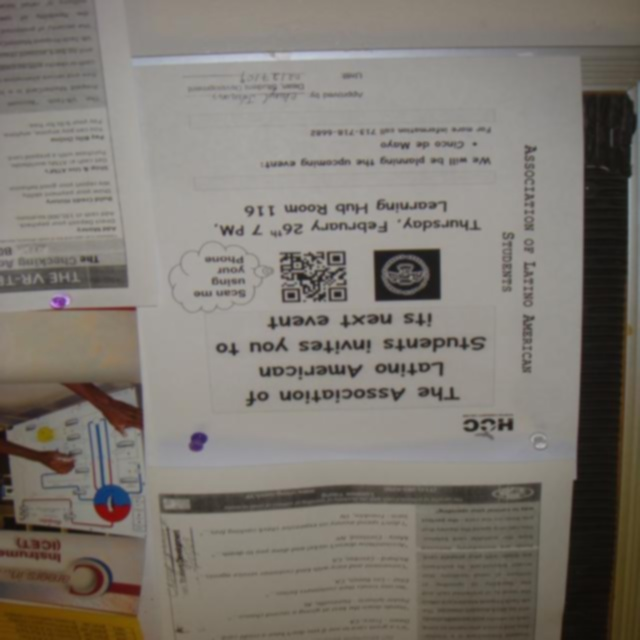qr-code: (280, 252, 347, 302)
